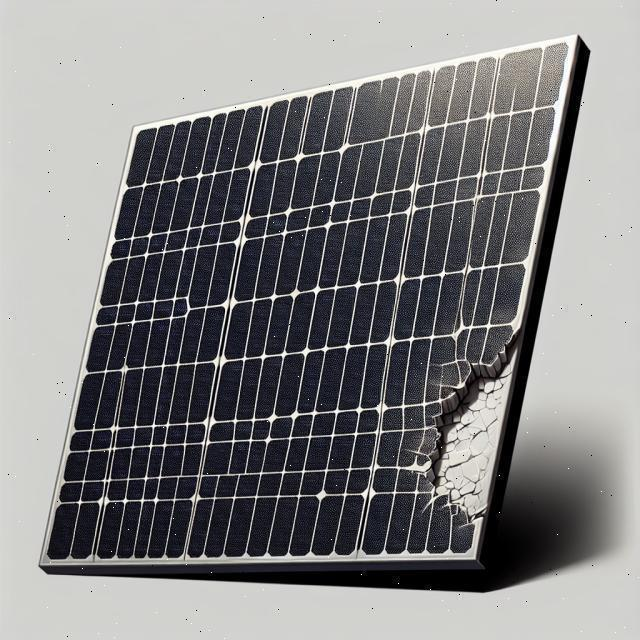Anomaly Solar Panel: (41, 39, 577, 562)
Structural Damage: (410, 308, 520, 522)
